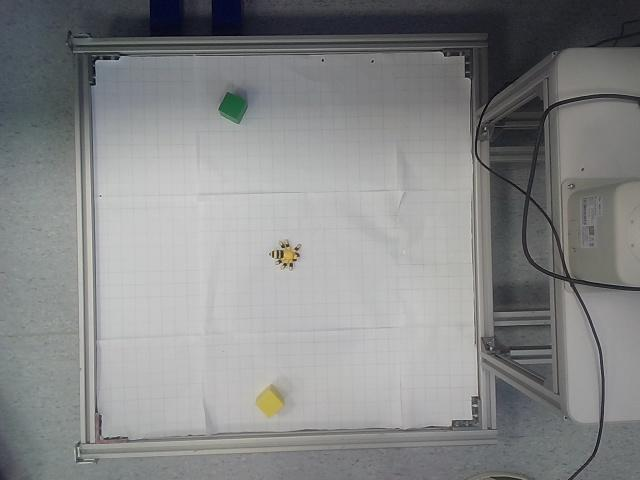frelon: (269, 239, 302, 271)
